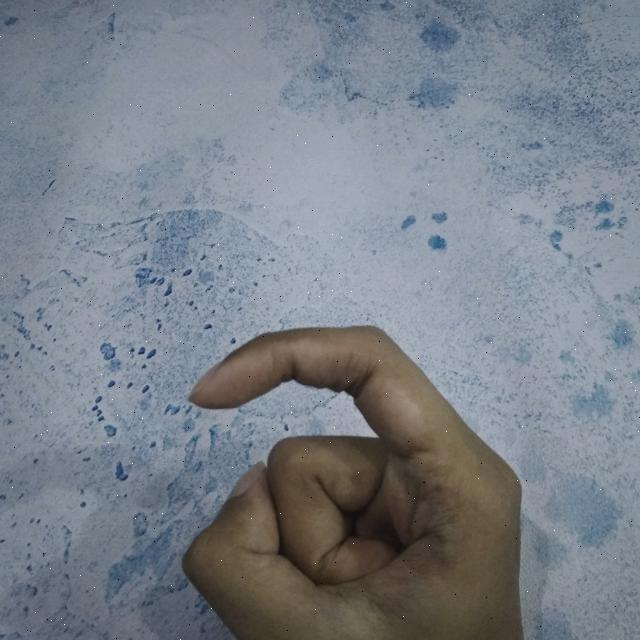X: (172, 307, 536, 640)
